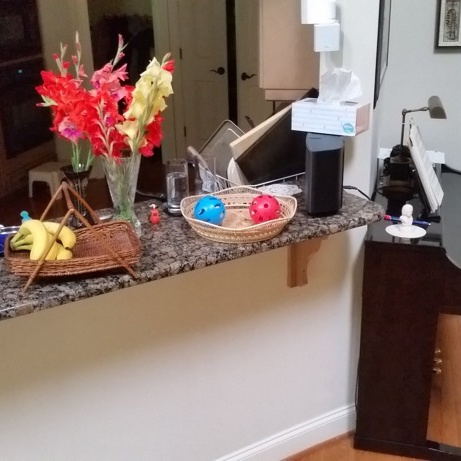blueball: (190, 193, 228, 228)
redball: (246, 192, 284, 225)
